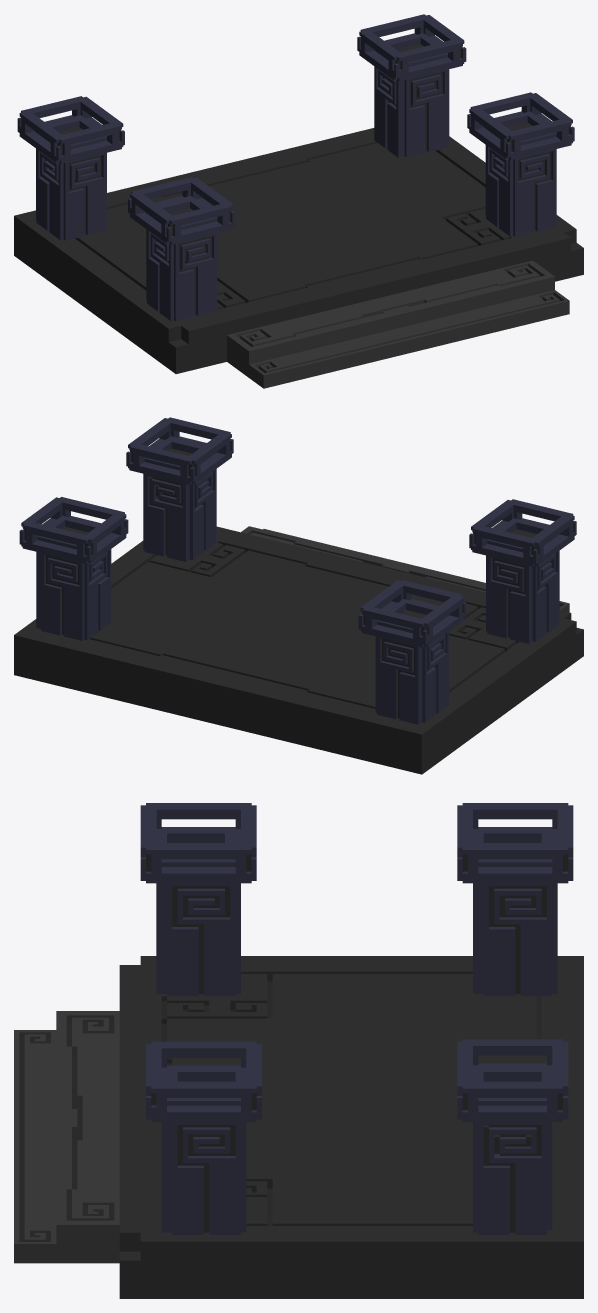
File: portal_broken-2.obj
The picture shows the model from 3 angles, top to bottom: view 1: azimuth 30°, elevation 25°; view 2: azimuth 150°, elevation 25°; view 3: azimuth 270°, elevation 25°; orthographic projection. The views are drawn at different scales.
Size of the model in its own units: 12.8 by 4.4 by 10.8.
1 material, 1 textured.
